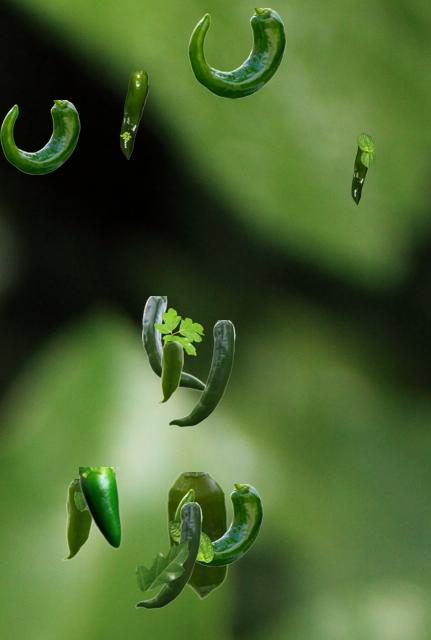green_chili: (188, 8, 285, 97), (166, 472, 227, 598), (174, 484, 262, 565), (168, 320, 234, 426), (135, 502, 201, 608), (142, 296, 204, 390), (0, 100, 79, 173), (79, 467, 121, 548), (61, 479, 92, 560), (120, 71, 147, 158), (157, 341, 182, 403), (351, 136, 371, 204)
